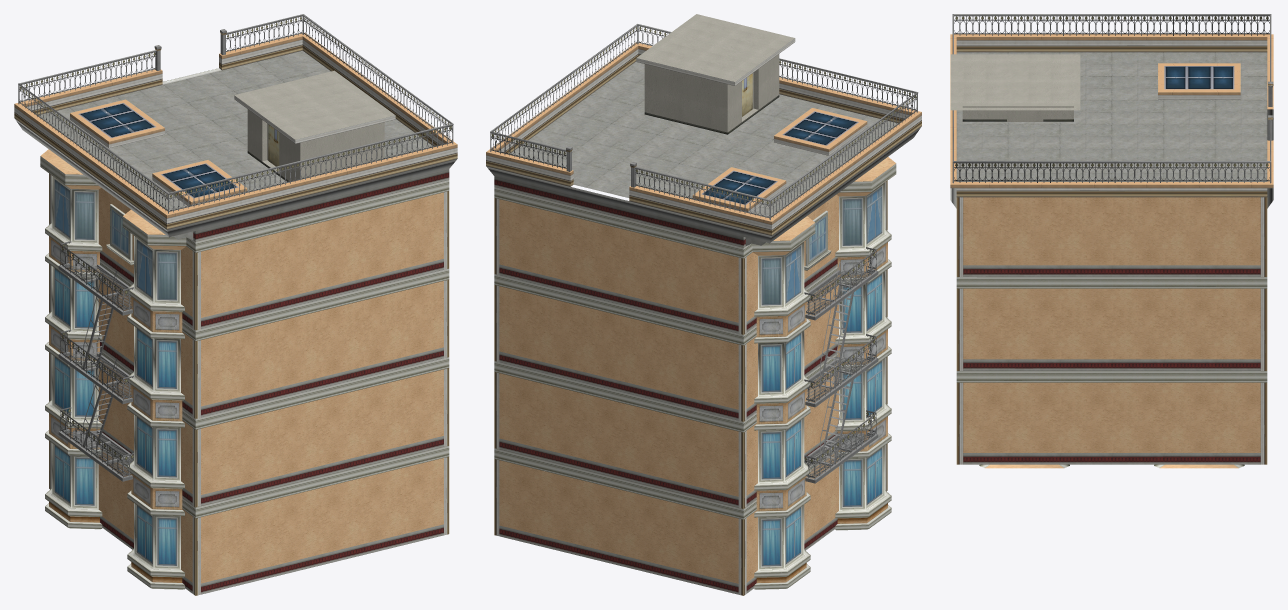
File: MHouseD.fbx
3 views of the same model, side by side, from view 1: azimuth 30°, elevation 25°; view 2: azimuth 150°, elevation 25°; view 3: azimuth 270°, elevation 25° (orthographic). The views are drawn at different scales.
Visible parts, largest first — view 1: ct2_03_n1_ks2_MhouseD_01; view 2: ct2_03_n1_ks2_MhouseD_01; view 3: ct2_03_n1_ks2_MhouseD_01.
Part boxes in pixels (<box>): ct2_03_n1_ks2_MhouseD_01: <box>14,14,457,595</box>; ct2_03_n1_ks2_MhouseD_01: <box>486,14,921,595</box>; ct2_03_n1_ks2_MhouseD_01: <box>950,14,1273,468</box>.
Size of the model in its own units: 1513 by 2176 by 1375.
